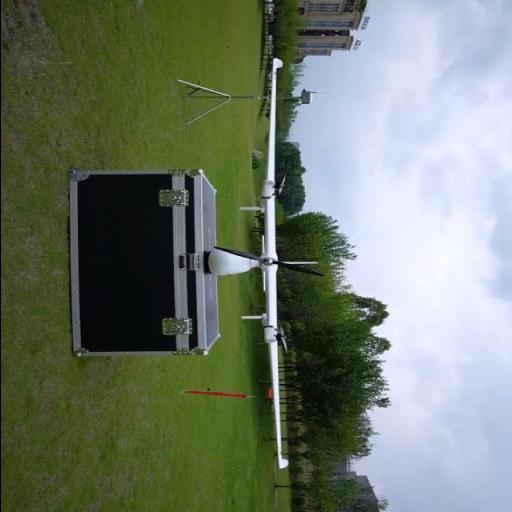uav: (206, 54, 288, 470)
